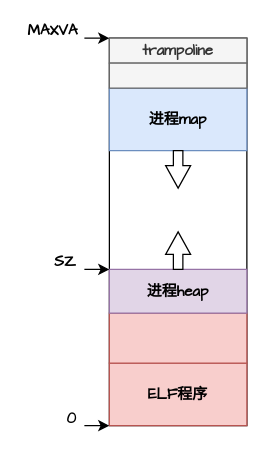
The diagram is 269 pixels wide and 458 high, and some of its shapes have lost their labels. The shapes that lost their labels are listed below. From the top down, each one's box as (x1, y1, x2, y2) in pixels, then its label:
(108, 62, 247, 88): trapframe
(108, 312, 247, 363): 进程stack
